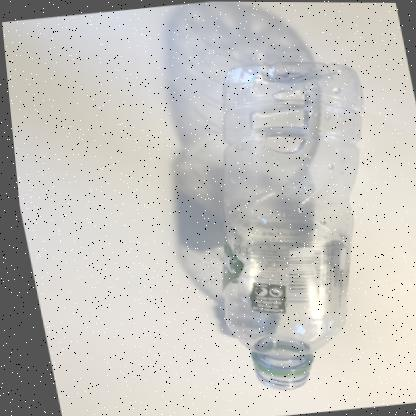Plastic: (216, 59, 360, 388)
